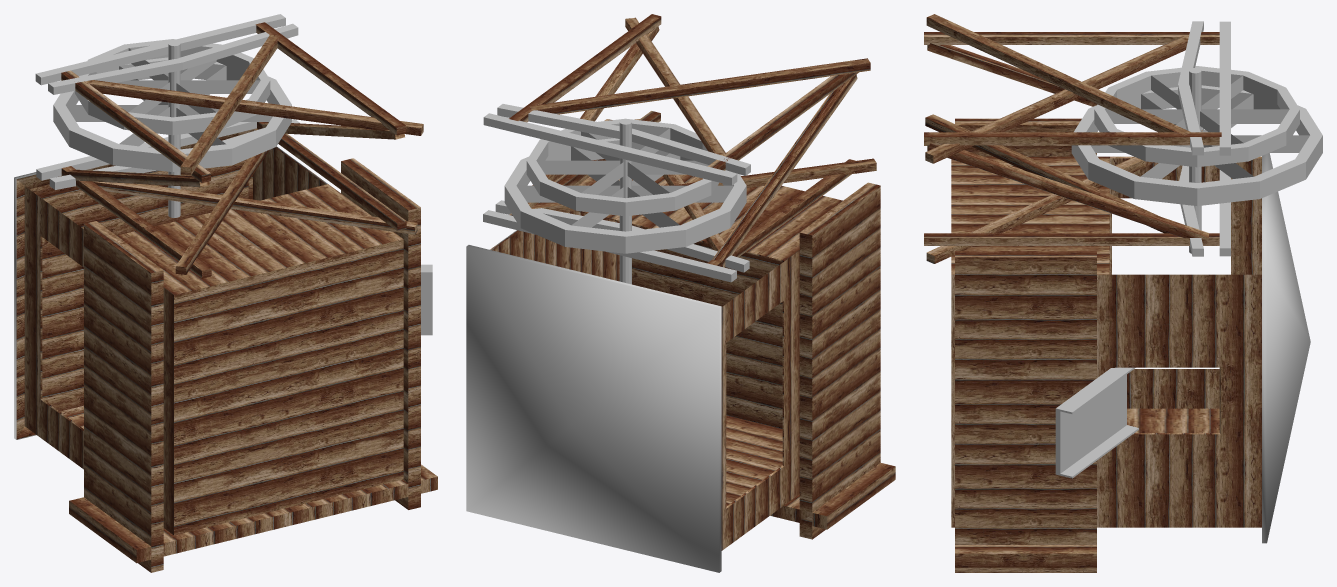
The model's file is mine.fbx.
The picture shows the model from 3 angles, left to right: view 1: azimuth 30°, elevation 25°; view 2: azimuth 150°, elevation 25°; view 3: azimuth 270°, elevation 25°; orthographic projection. The views are drawn at different scales.
Parts seen in each view (by area): view 1: Mine; view 2: Mine; view 3: Mine.
Boxes of the visible parts, box(x1,y1,x2,y2) form: Mine: box(14, 14, 437, 572); Mine: box(466, 14, 895, 572); Mine: box(924, 14, 1322, 572).
Size of the model in its own units: 6.91 by 7.74 by 6.44.
